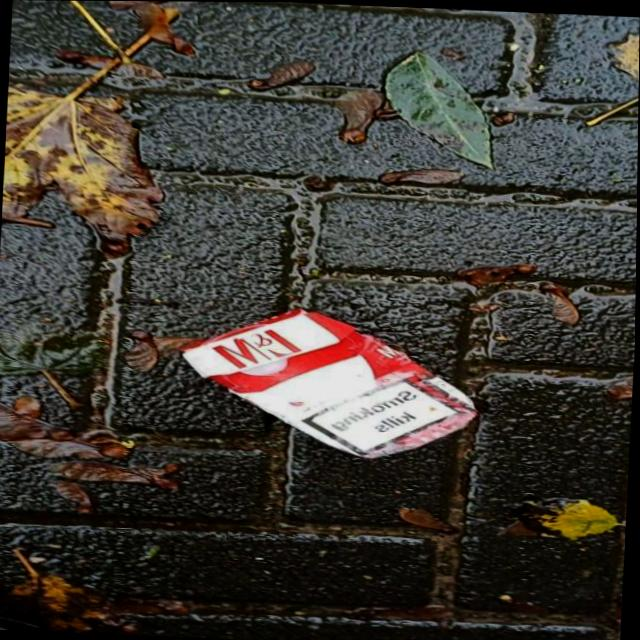Paper: (174, 299, 495, 463)
